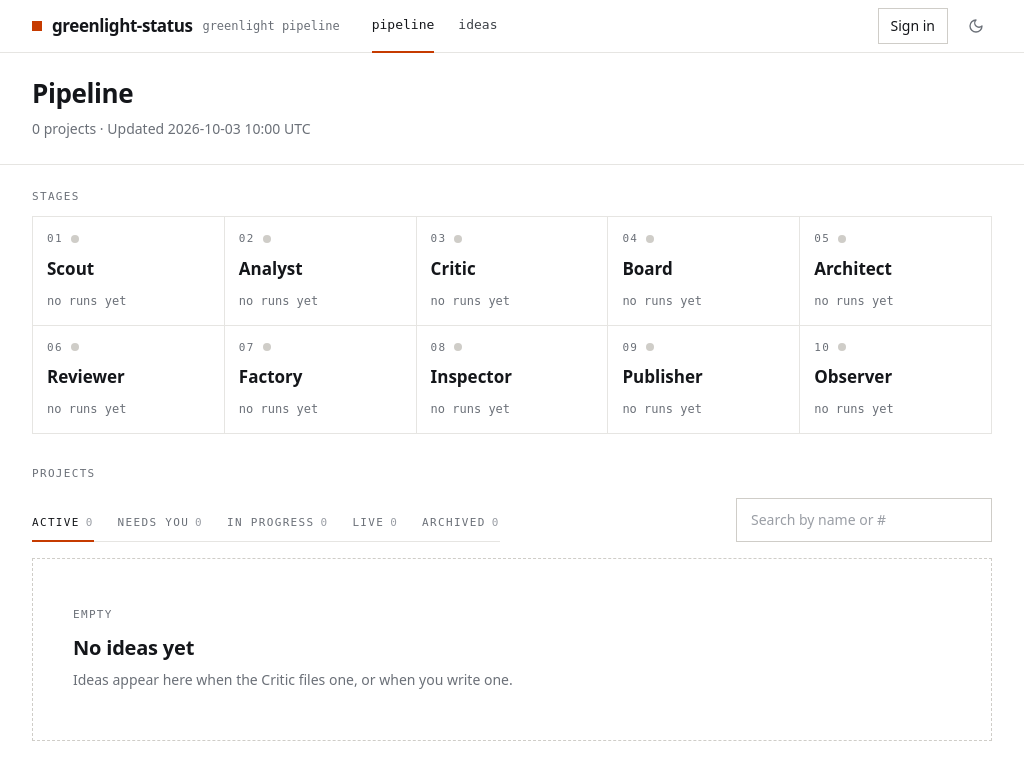
Scenario: App › opens on the board, switches screens without a reload, and reads the board once
Expected: the text "greenlight-status" is shown, 52,12 -> 192,40
Expected: the heading "Pipeline" is shown, 32,75 -> 133,111
Step 1. Click the link "ideas" → [478, 25], box 458,18 -> 497,32
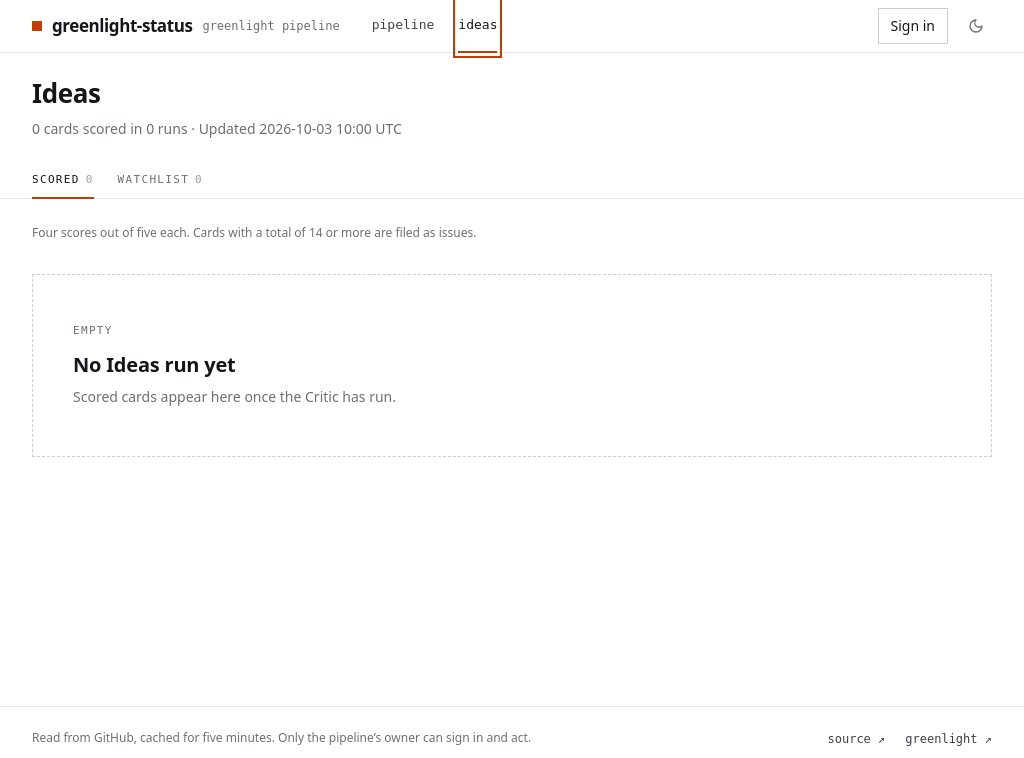
Expected: the heading "Ideas" is shown, 32,75 -> 101,111
Step 2. Click the link "pipeline" → [403, 25], box 372,18 -> 434,32
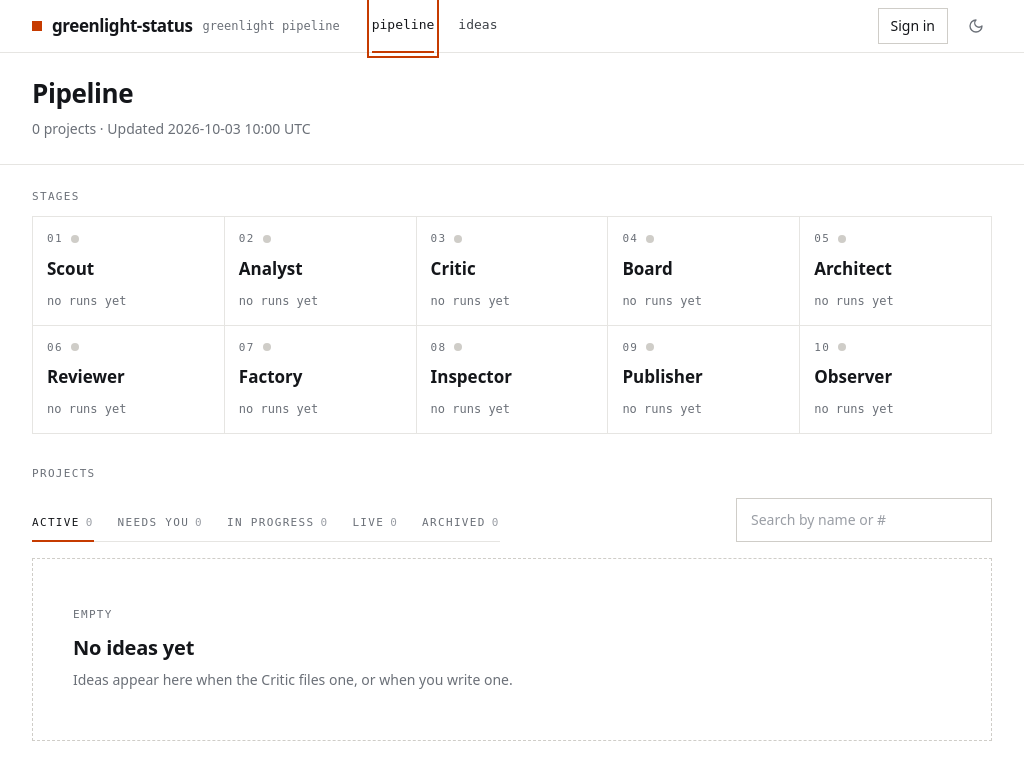
Expected: the heading "Pipeline" is shown, 32,75 -> 133,111
